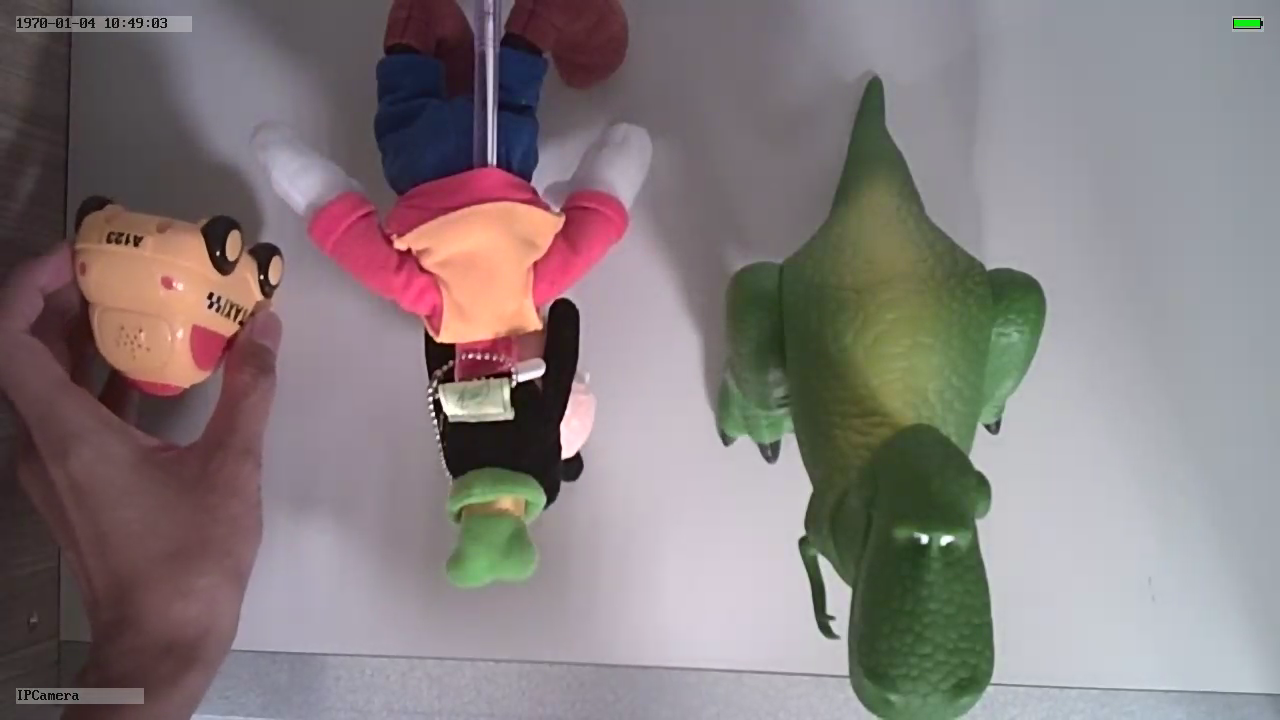goofy: (241, 111, 655, 590)
